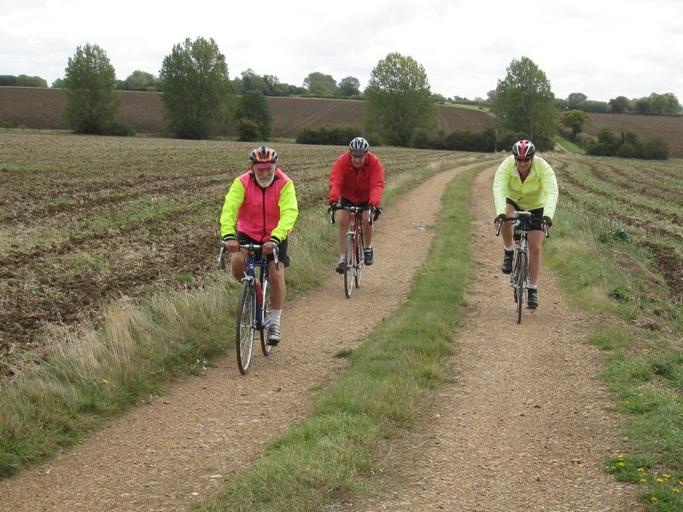non-vehicle: (216, 239, 279, 374), (493, 216, 549, 324), (325, 202, 381, 299)
